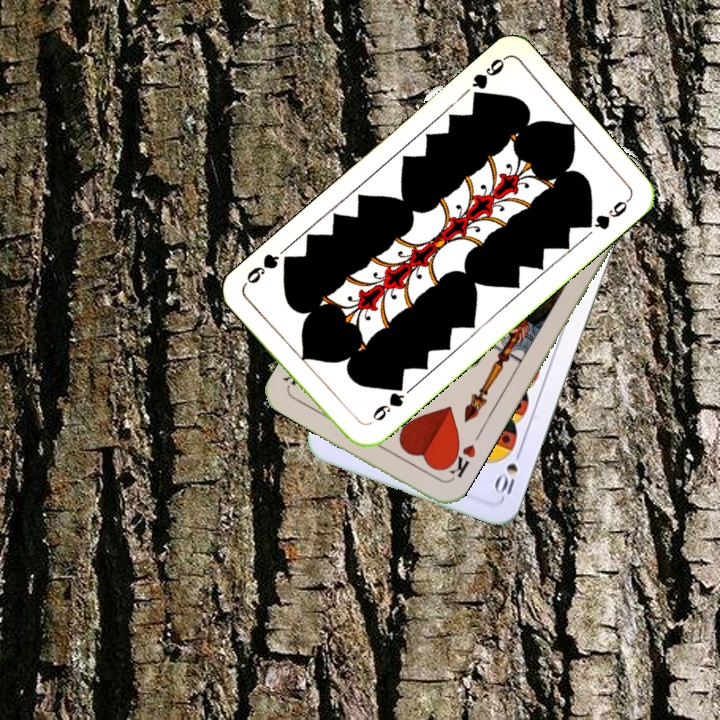G9: (467, 53, 508, 105), (368, 379, 408, 424)
HK: (439, 439, 479, 484)
S10: (491, 444, 525, 501)
